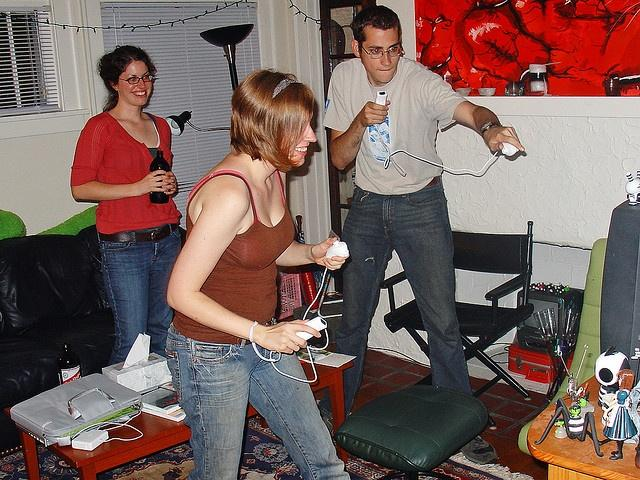Kursi: (383, 218, 533, 399)
